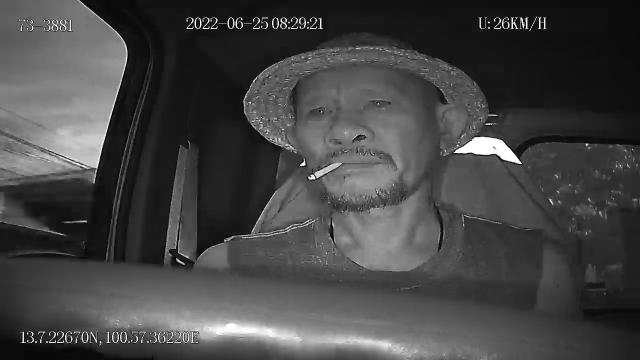SafeDriving: (302, 96, 338, 126), (360, 90, 399, 115)
Smoking: (308, 162, 342, 180)
